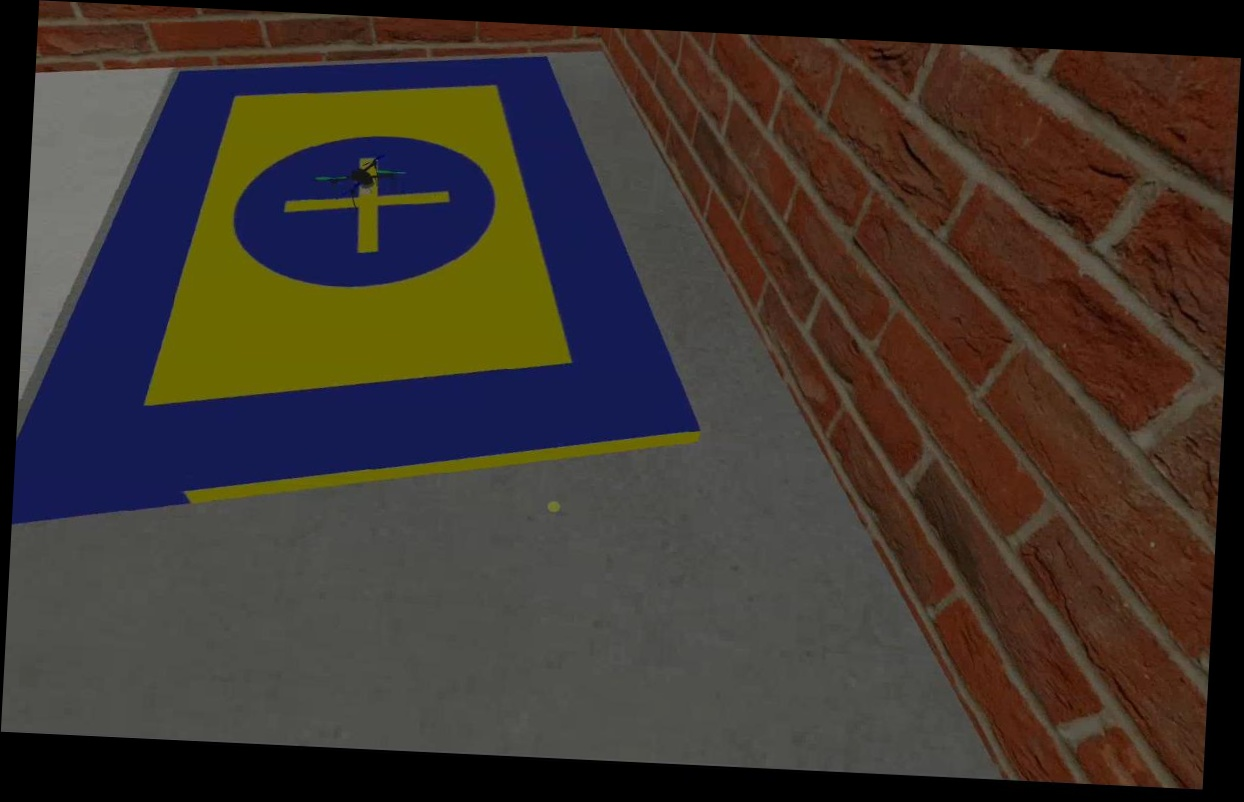large_base: (12, 29, 729, 554)
